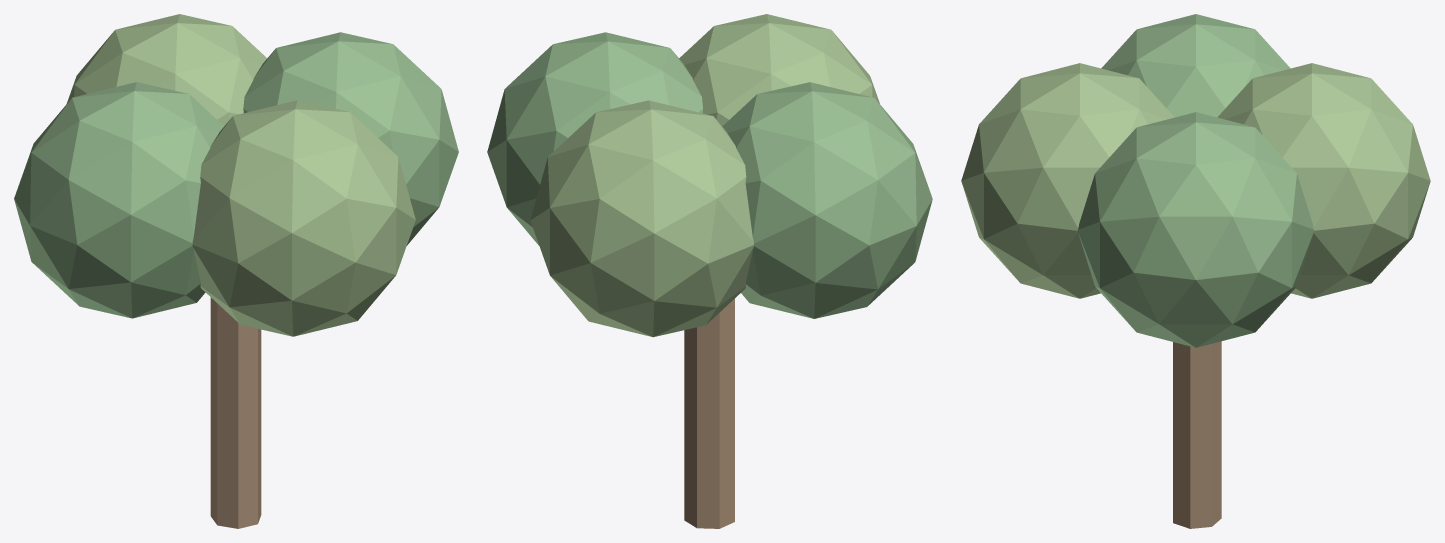
File: sapling.glb
3 views of the same model, side by side, from view 1: azimuth 30°, elevation 25°; view 2: azimuth 150°, elevation 25°; view 3: azimuth 270°, elevation 25° (orthographic).
Visible parts, largest first — view 1: Foliage_1, Foliage_2, Foliage_0, Foliage_3, Trunk; view 2: Foliage_3, Foliage_2, Foliage_0, Foliage_1, Trunk; view 3: Foliage_0, Foliage_1, Foliage_3, Foliage_2, Trunk.
Part boxes in pixels (left/top/right/bottom): Foliage_1: left=192, top=100, right=415, bottom=336; Foliage_2: left=14, top=82, right=223, bottom=318; Foliage_0: left=243, top=32, right=458, bottom=245; Foliage_3: left=66, top=14, right=266, bottom=125; Trunk: left=210, top=297, right=261, bottom=528; Foliage_3: left=530, top=100, right=753, bottom=337; Foliage_2: left=722, top=82, right=932, bottom=318; Foliage_0: left=487, top=32, right=702, bottom=245; Foliage_1: left=679, top=14, right=879, bottom=126; Trunk: left=684, top=298, right=734, bottom=528; Foliage_0: left=1078, top=112, right=1313, bottom=347; Foliage_1: left=961, top=63, right=1174, bottom=298; Foliage_3: left=1217, top=63, right=1430, bottom=298; Foliage_2: left=1101, top=14, right=1290, bottom=117; Trunk: left=1173, top=341, right=1221, bottom=528.
Bounding box in the file's own units: 1.74 × 1.82 × 1.74.
